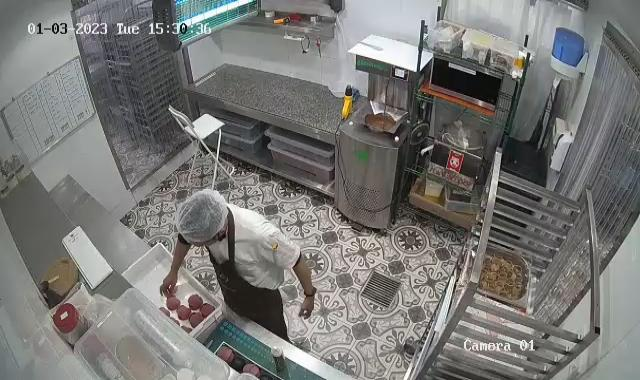hairnet: (174, 187, 232, 248)
